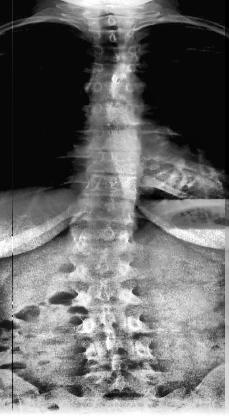Vertebrae: (80, 338, 156, 372), (78, 280, 140, 312), (76, 199, 134, 233), (77, 226, 133, 258), (81, 312, 148, 338), (87, 149, 145, 177), (88, 102, 146, 130), (76, 258, 134, 284), (92, 128, 144, 156), (84, 174, 139, 198), (91, 82, 143, 104), (90, 63, 139, 85), (93, 46, 143, 66), (89, 29, 140, 47), (88, 12, 136, 28)
